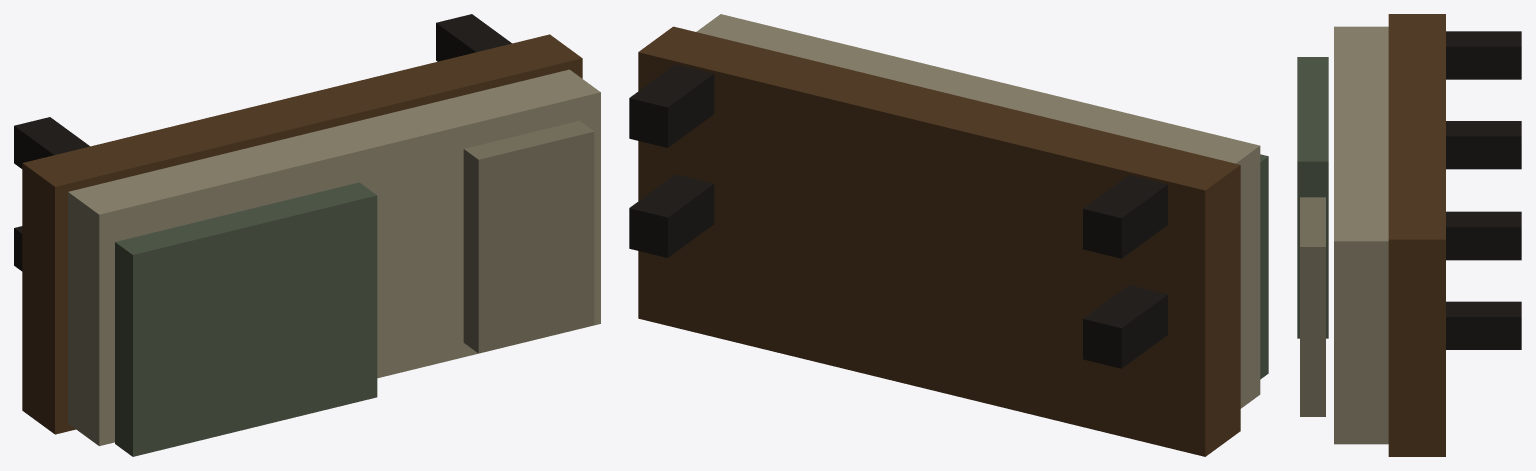
The model's file is shelter_bed_messy_detailed.obj.
3 views of the same model, side by side, from view 1: azimuth 30°, elevation 25°; view 2: azimuth 150°, elevation 25°; view 3: azimuth 270°, elevation 25° (orthographic). The views are drawn at different scales.
Visible parts, largest first — view 1: shelter_bed_messy_detailed; view 2: shelter_bed_messy_detailed; view 3: shelter_bed_messy_detailed.
Part boxes in pixels (<box>): shelter_bed_messy_detailed: <box>14,14,600,456</box>; shelter_bed_messy_detailed: <box>629,14,1268,456</box>; shelter_bed_messy_detailed: <box>1297,14,1521,456</box>.
Size of the model in its own units: 2.05 by 0.92 by 0.86.
